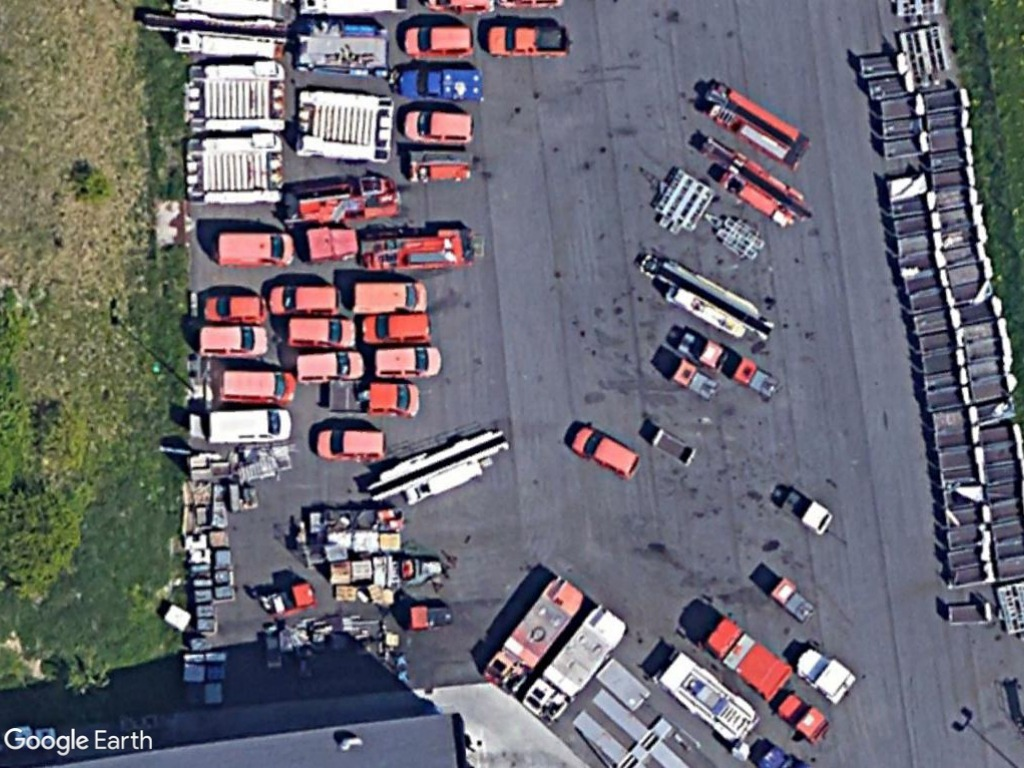car: (568, 420, 645, 482), (355, 305, 436, 348), (292, 343, 369, 388), (400, 102, 477, 146), (195, 318, 273, 359), (286, 310, 362, 352), (370, 340, 446, 382), (313, 425, 393, 464), (267, 282, 347, 318), (401, 22, 478, 59), (201, 293, 270, 326)
other: (322, 374, 425, 416), (398, 62, 491, 106), (483, 21, 576, 60)
van: (204, 401, 300, 449), (210, 228, 300, 270), (215, 363, 300, 405), (347, 277, 431, 316)
